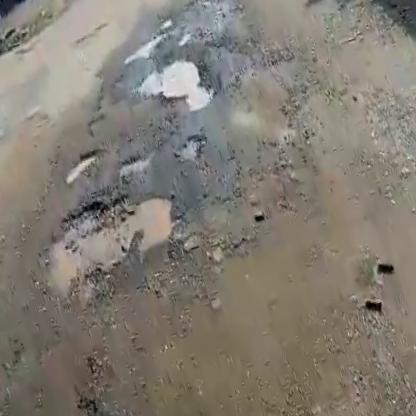pothole: (22, 174, 193, 298), (128, 48, 214, 125), (61, 147, 108, 186), (166, 130, 211, 168), (114, 151, 152, 177)
